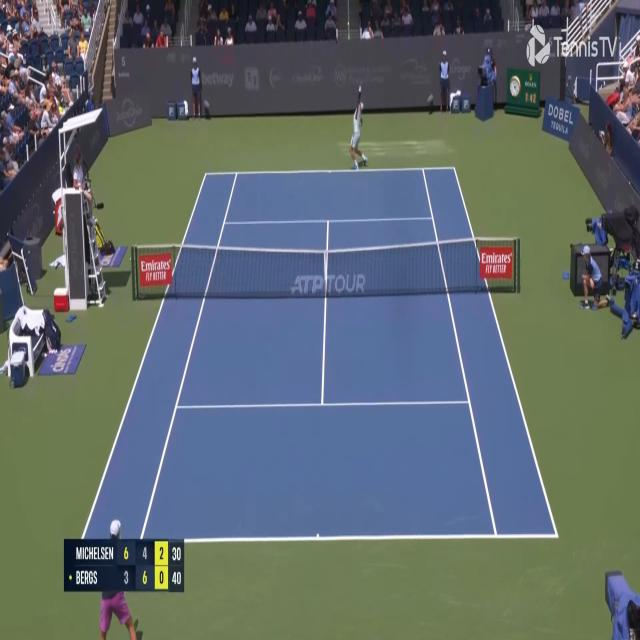tennis-player: (97, 512, 148, 638), (347, 81, 371, 173)
